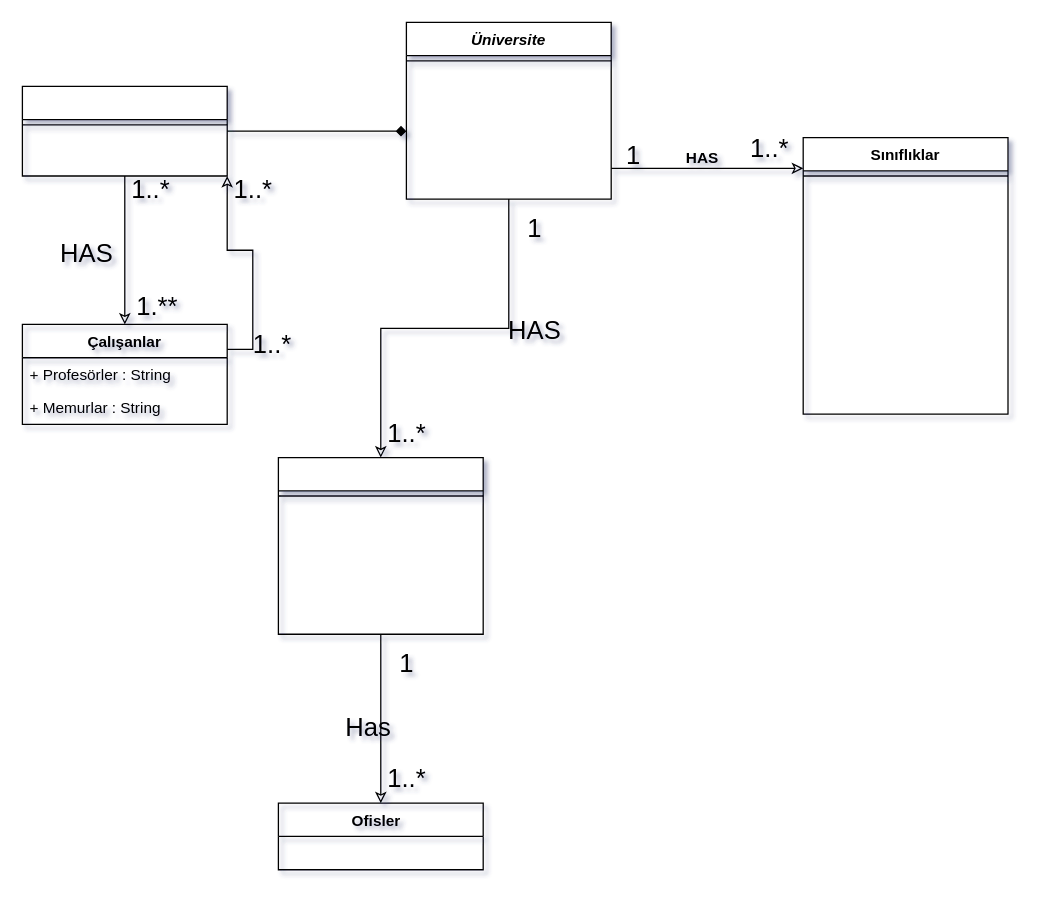
This 1038x900 diagram has some shape labels left out. The centre of each missing label's shape, as x and y in pixels:
Departmanlar: pixel 380 545
Çalışma Ofisleri: pixel 124 130
